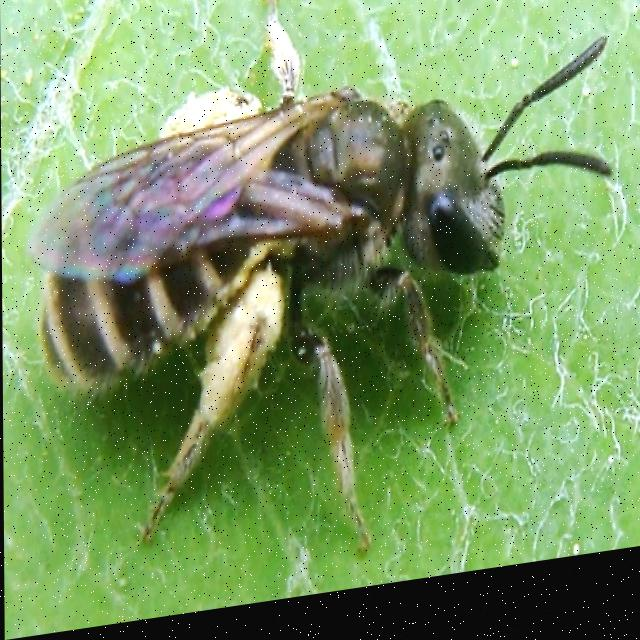Lasioglossum: (32, 0, 639, 542)
